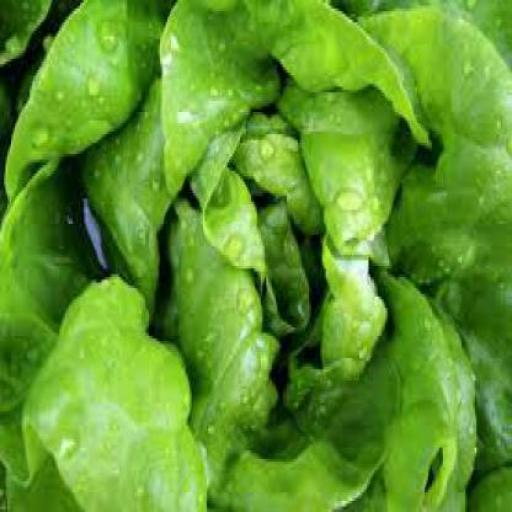biodegradable: (0, 0, 511, 510)
